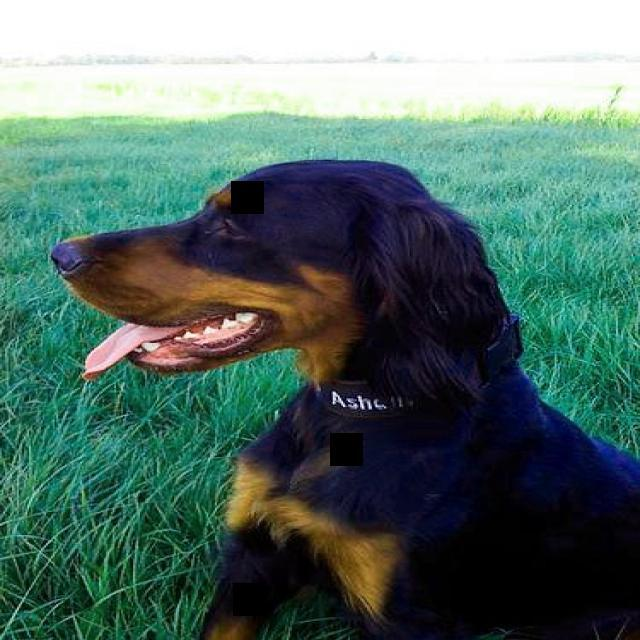adult_dog: (49, 158, 640, 633)
